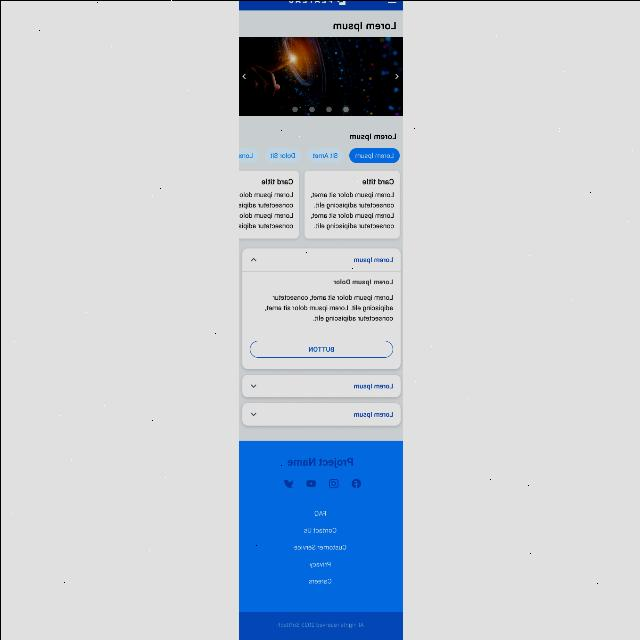QLabel: (262, 293, 393, 323), (308, 189, 394, 229), (238, 189, 294, 229), (284, 454, 354, 468), (274, 620, 364, 628), (332, 20, 396, 30), (292, 542, 346, 552), (331, 277, 393, 285), (351, 408, 393, 418), (348, 132, 397, 140), (300, 525, 338, 535), (352, 381, 394, 389), (353, 151, 393, 159), (260, 175, 292, 185), (310, 150, 338, 160), (353, 255, 393, 262), (306, 344, 334, 354), (361, 176, 394, 184), (306, 576, 332, 584), (308, 560, 330, 568), (269, 152, 295, 158), (238, 151, 254, 159), (312, 508, 328, 516)
VAppBar: (238, 0, 402, 10)
VBtn: (250, 339, 392, 356)
VCard: (303, 169, 399, 237), (238, 169, 298, 237)
VChip: (348, 148, 398, 162), (264, 146, 300, 162), (306, 148, 342, 162), (238, 146, 258, 162)
VDivider: (242, 331, 400, 334)
VExpansionPanel: (240, 248, 400, 368), (241, 373, 399, 397), (240, 402, 400, 424)
VFooter: (238, 440, 402, 640)
VIcon: (386, 1, 396, 4)
VImg: (286, 0, 346, 6), (348, 476, 362, 490), (326, 476, 339, 489), (282, 477, 294, 489), (304, 478, 316, 488)
VStepper: (238, 35, 402, 115)
